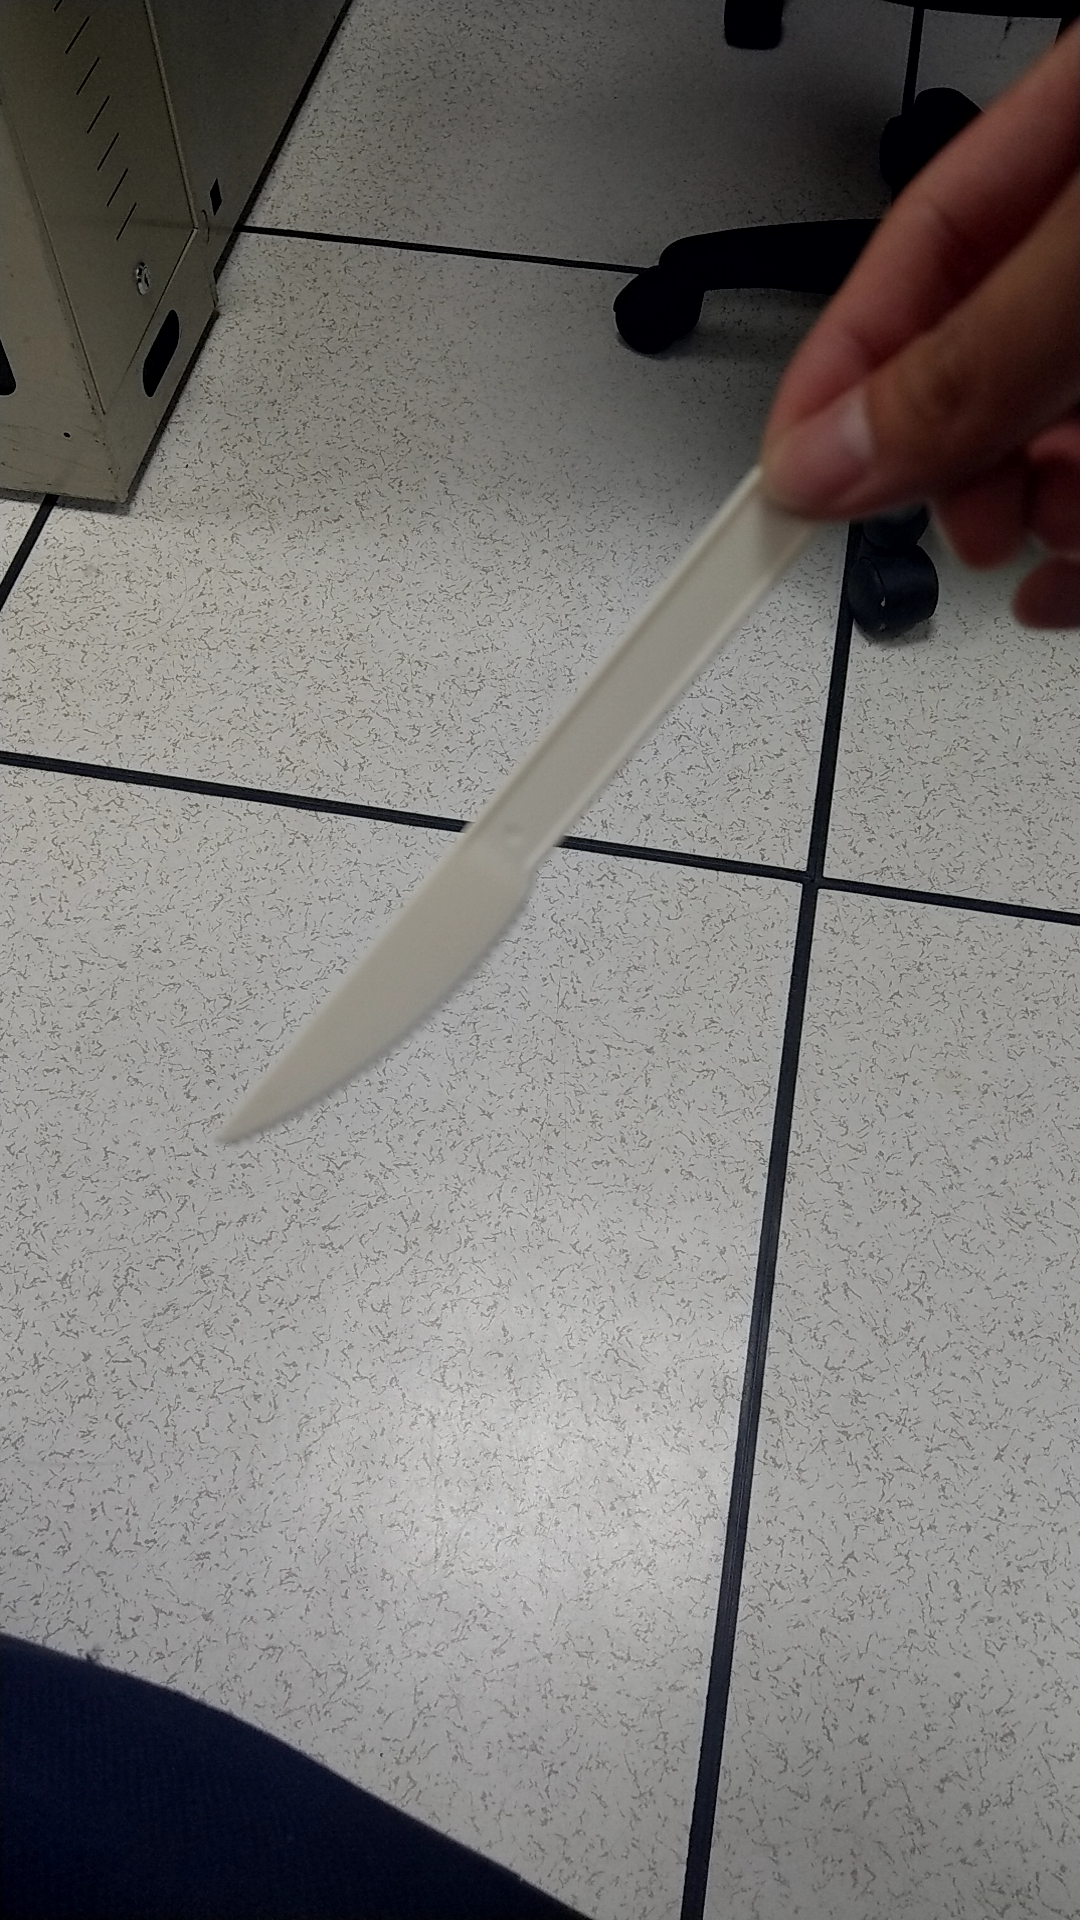knife: (204, 450, 818, 1168)
